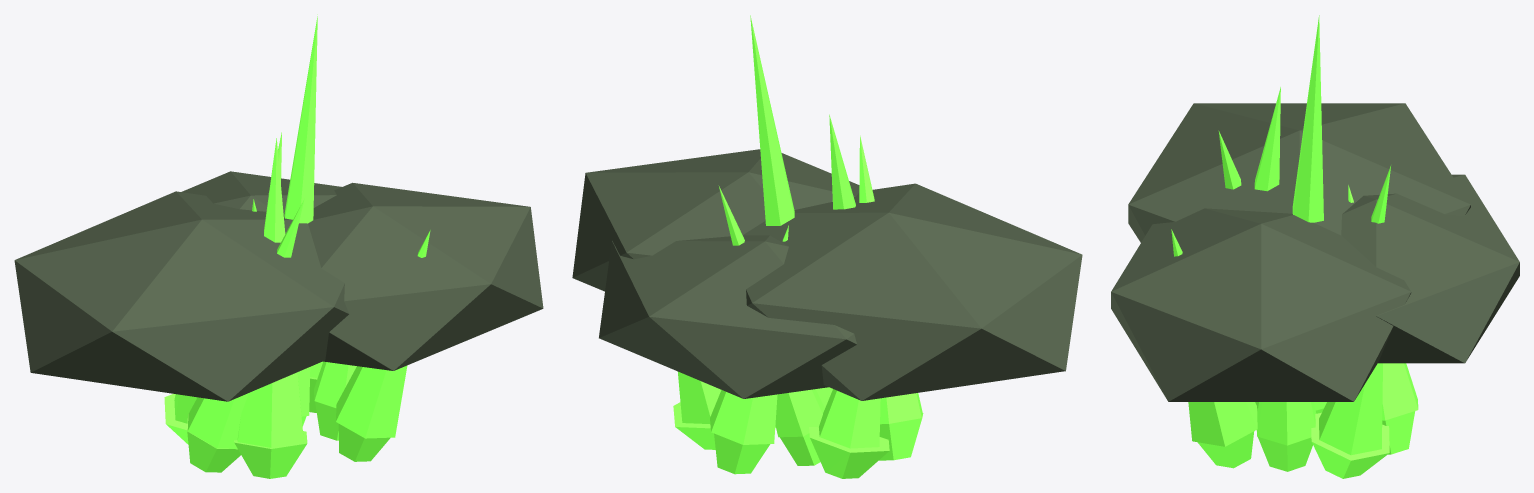
The model's file is uranium_crystal_large.glb.
The picture shows the model from 3 angles, left to right: view 1: azimuth 30°, elevation 25°; view 2: azimuth 150°, elevation 25°; view 3: azimuth 270°, elevation 25°; orthographic projection. The views are drawn at different scales.
Visible parts, largest first — view 1: uranium_host_rock_1, uranium_host_rock_2, crystal-spire.001, uranium_host_rock_3; view 2: uranium_host_rock_1, uranium_host_rock_3, crystal-spire.001, uranium_host_rock_2; view 3: uranium_host_rock_2, uranium_host_rock_1, crystal-spire.001, uranium_host_rock_3.
Part boxes in pixels (box(x1,y1,x2,y2)): uranium_host_rock_1: box(14, 191, 348, 401); uranium_host_rock_2: box(308, 182, 543, 370); crystal-spire.001: box(164, 14, 430, 478); uranium_host_rock_3: box(182, 171, 341, 212); uranium_host_rock_1: box(743, 183, 1082, 400); uranium_host_rock_3: box(599, 235, 856, 398); crystal-spire.001: box(673, 15, 923, 478); uranium_host_rock_2: box(572, 149, 859, 291); uranium_host_rock_2: box(1111, 208, 1411, 401); uranium_host_rock_1: box(1128, 103, 1470, 242); crystal-spire.001: box(1171, 15, 1418, 478); uranium_host_rock_3: box(1341, 174, 1519, 363).
Size of the model in its own units: 3.35 by 2.75 by 2.27.
